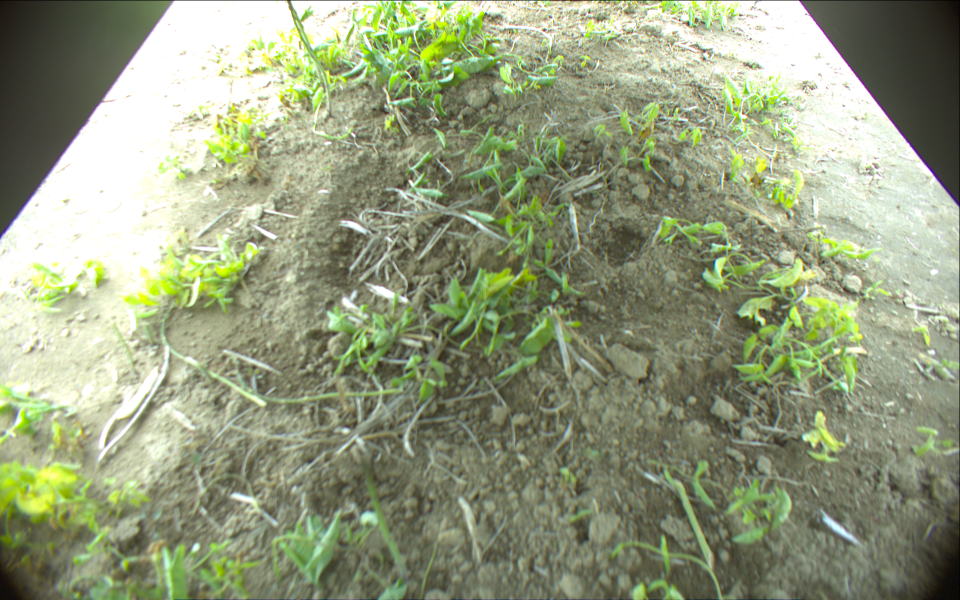aspa: (159, 336, 264, 410), (285, 1, 334, 113), (668, 472, 720, 567), (362, 460, 406, 572), (290, 1, 325, 90), (242, 382, 402, 398)
